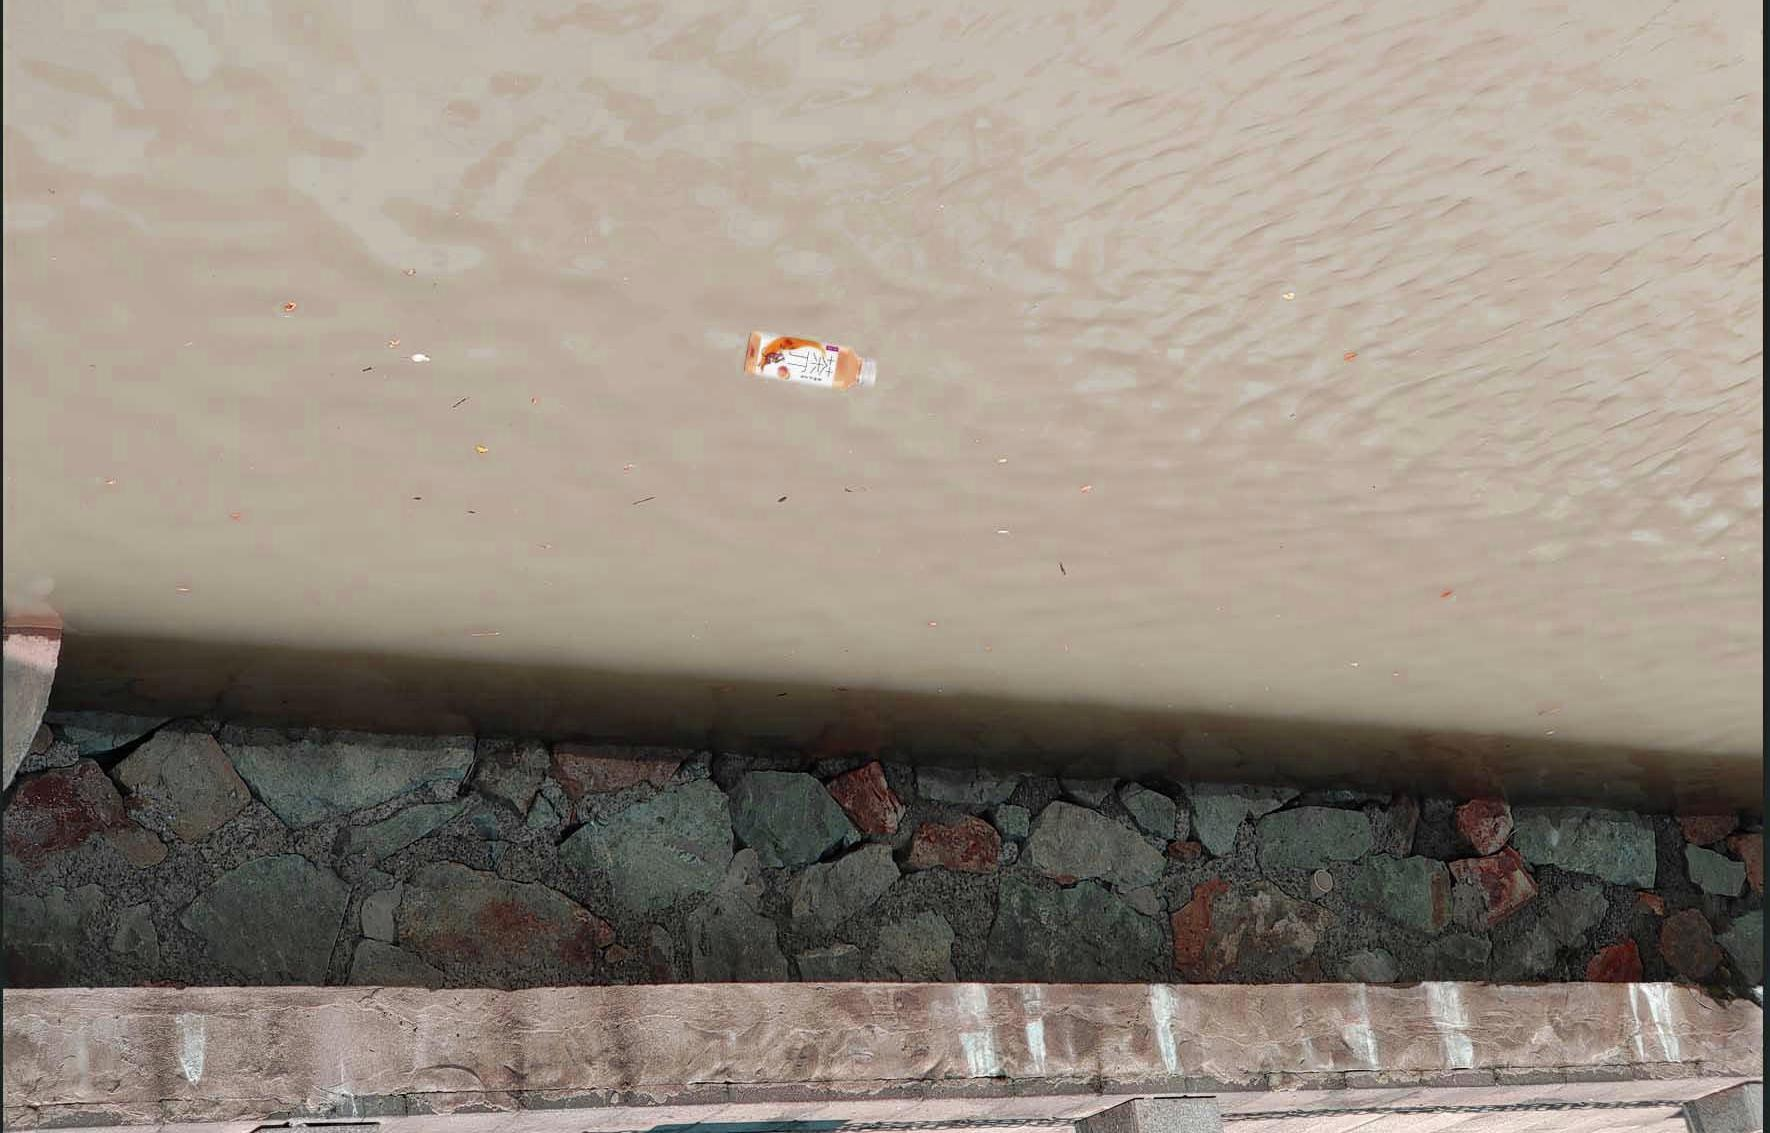Plastic: (737, 326, 882, 388)
